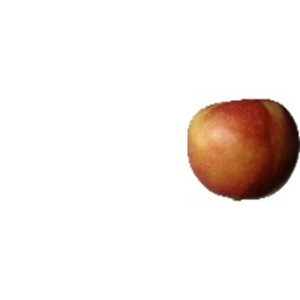maçã braeburn: (188, 94, 299, 204)
